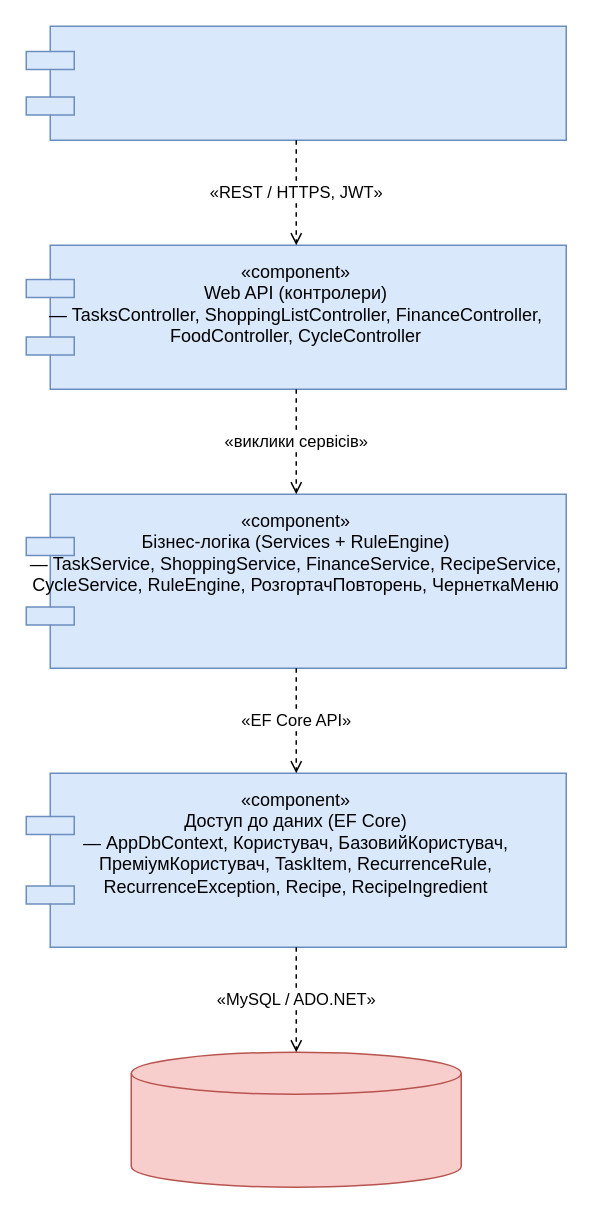
Image size: 593x1214. Some labels were removed from this diagram. Here are the shapes that lost their labels. From the top down, the centre of each, then its label:
At [295,82]: "«component» Клієнтський застосунок (React + Vite) — ВебІнтерфейс".
At [295,1119]: "СУБД MySQL Зберігання даних (~60 таблиць)".
